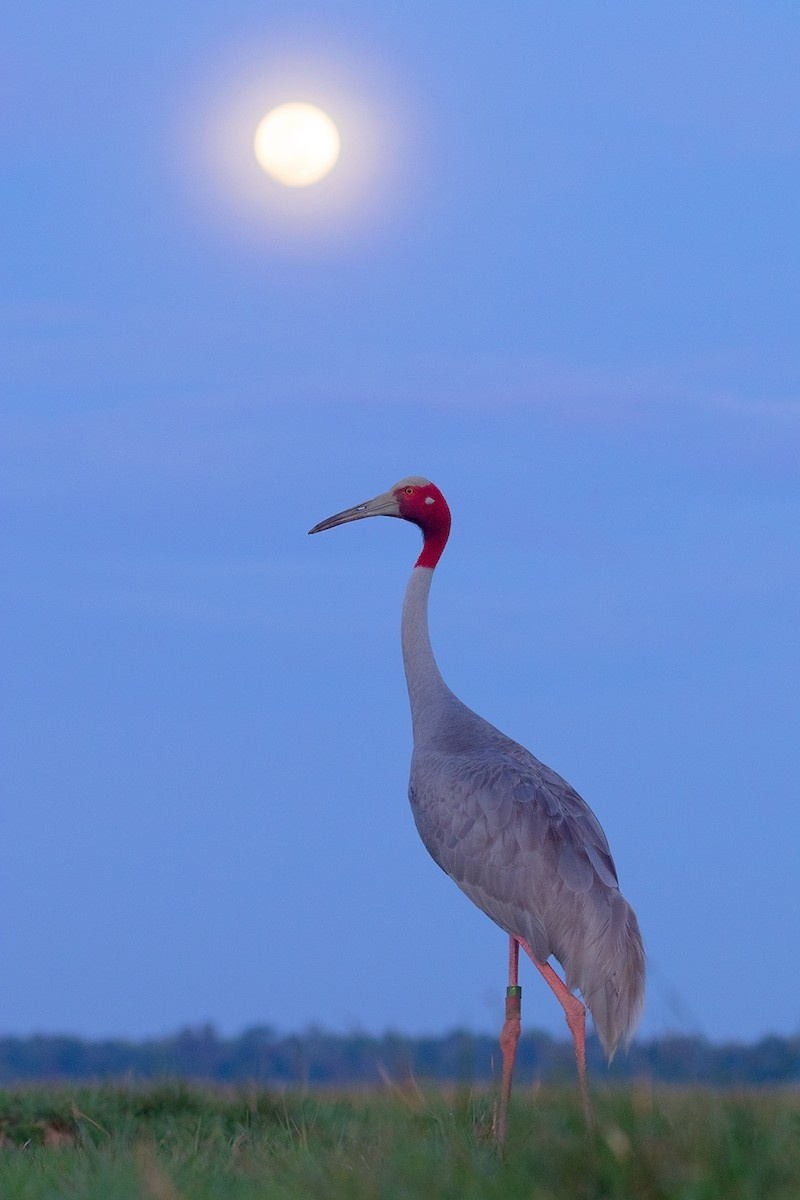crane: (298, 460, 738, 1130)
